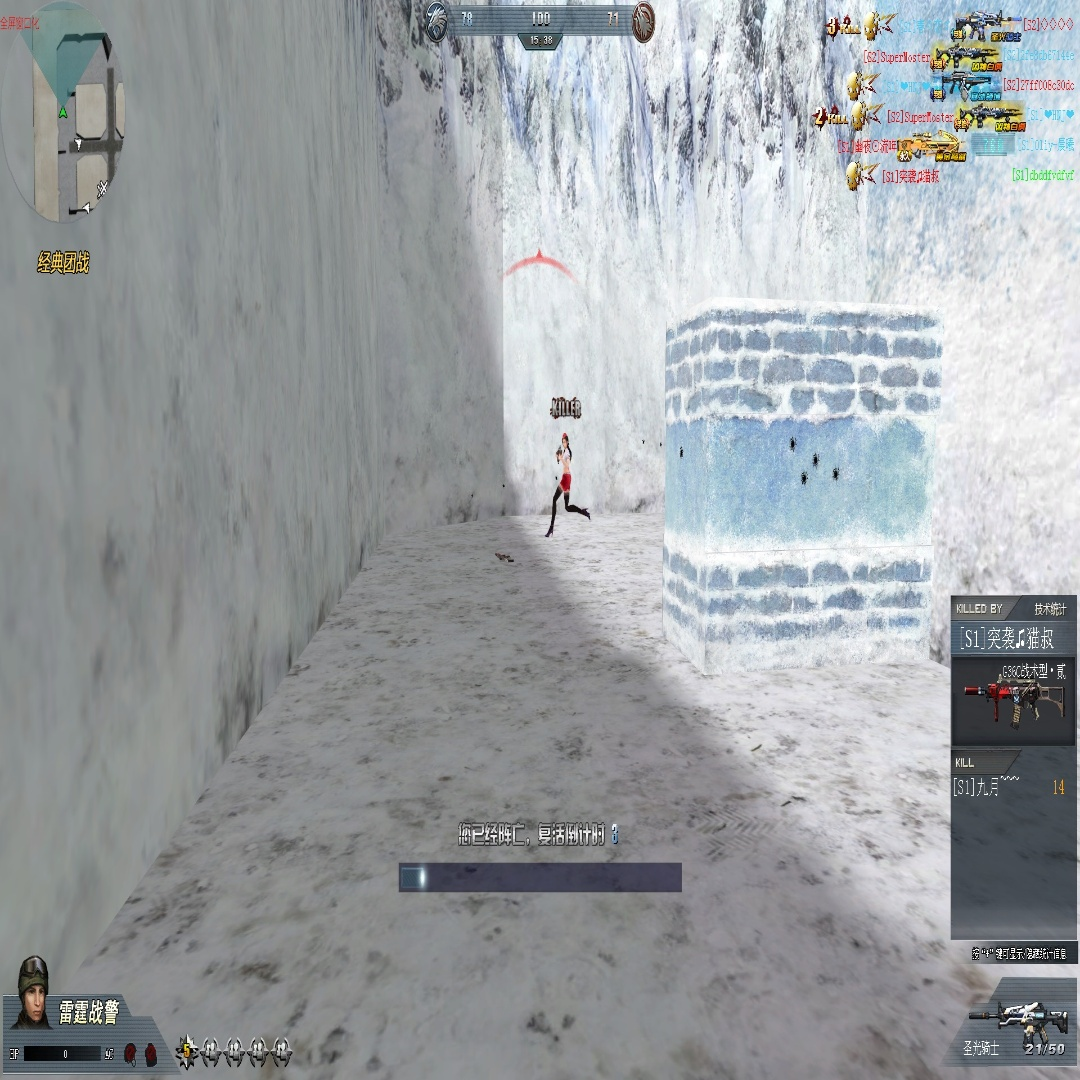t: (544, 430, 590, 534)
